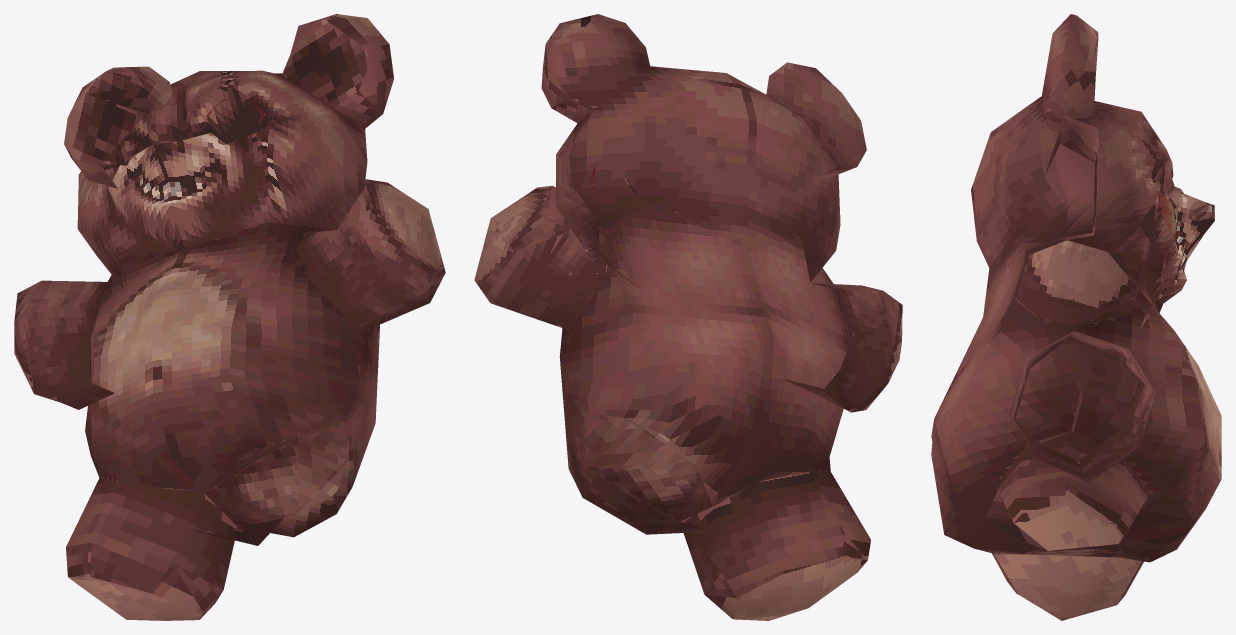
The model's file is ps2_save-icons_shadowman2.glb.
The picture shows the model from 3 angles, left to right: view 1: azimuth 30°, elevation 25°; view 2: azimuth 150°, elevation 25°; view 3: azimuth 270°, elevation 25°; orthographic projection. The views are drawn at different scales.
Visible parts, largest first — view 1: 1.ico; view 2: 1.ico; view 3: 1.ico.
Part boxes in pixels (x1,y1,x2,y2): 1.ico: (14,14,445,620); 1.ico: (474,14,902,620); 1.ico: (931,14,1221,620).
Bounding box in the file's own units: 3.92 × 4.98 × 2.32.
1 material, 1 textured.
